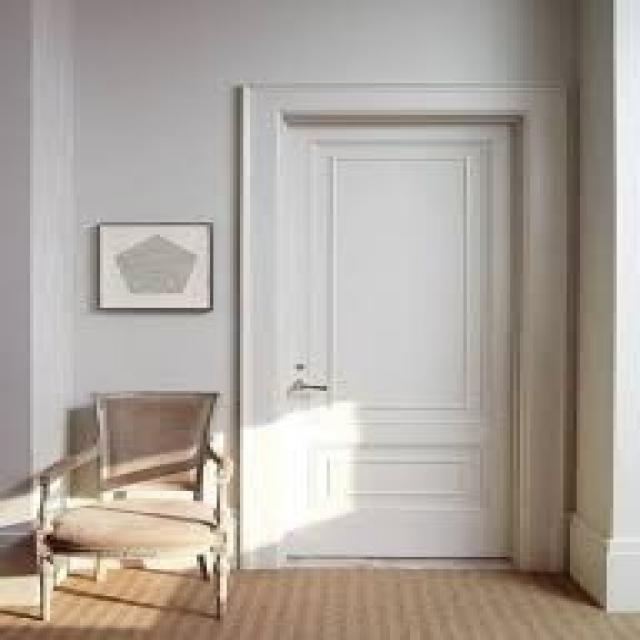Door: (254, 86, 544, 566)
